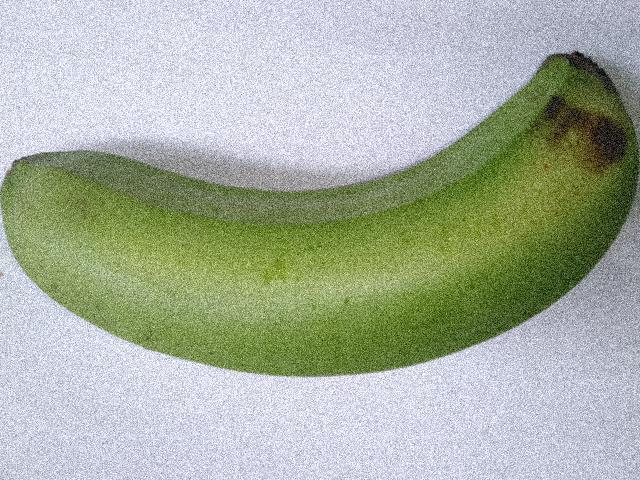freshunripe: (0, 44, 639, 389)
